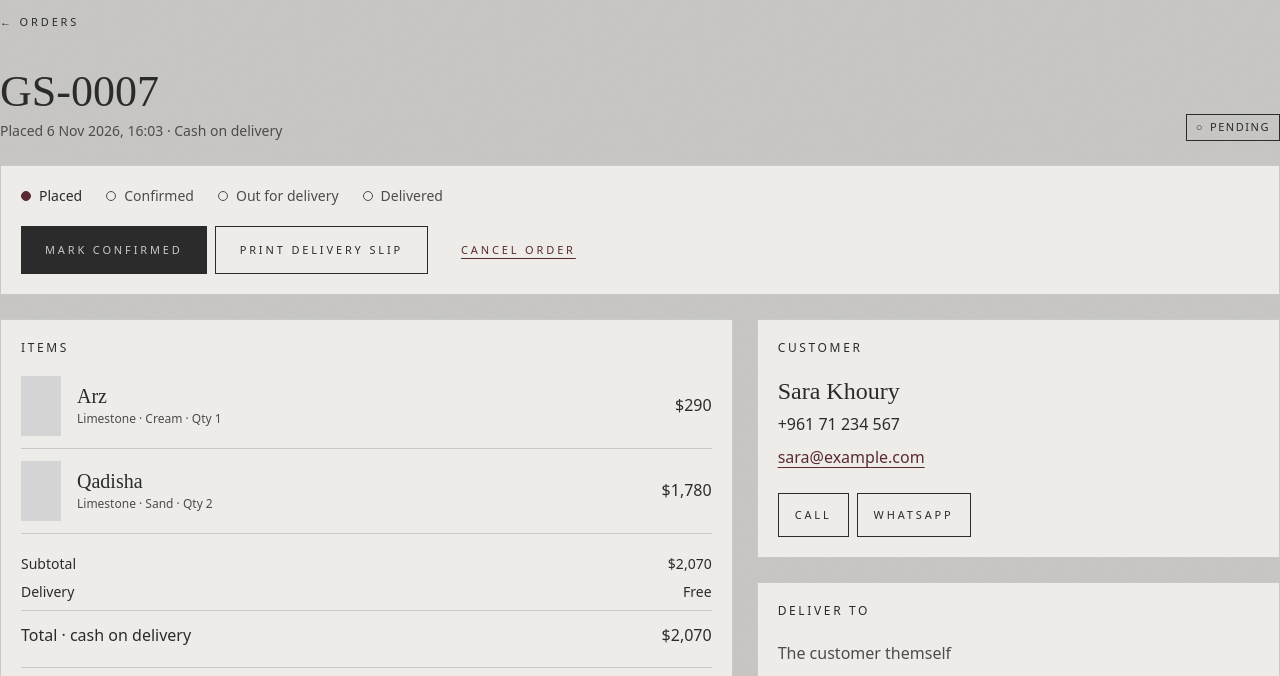
Test: one order in the studio › asks on the page before a step forward, naming who gets the email, and takes the order back
Step 1. Click the button "Mark confirmed" → (114, 250), box [21, 226, 207, 274]
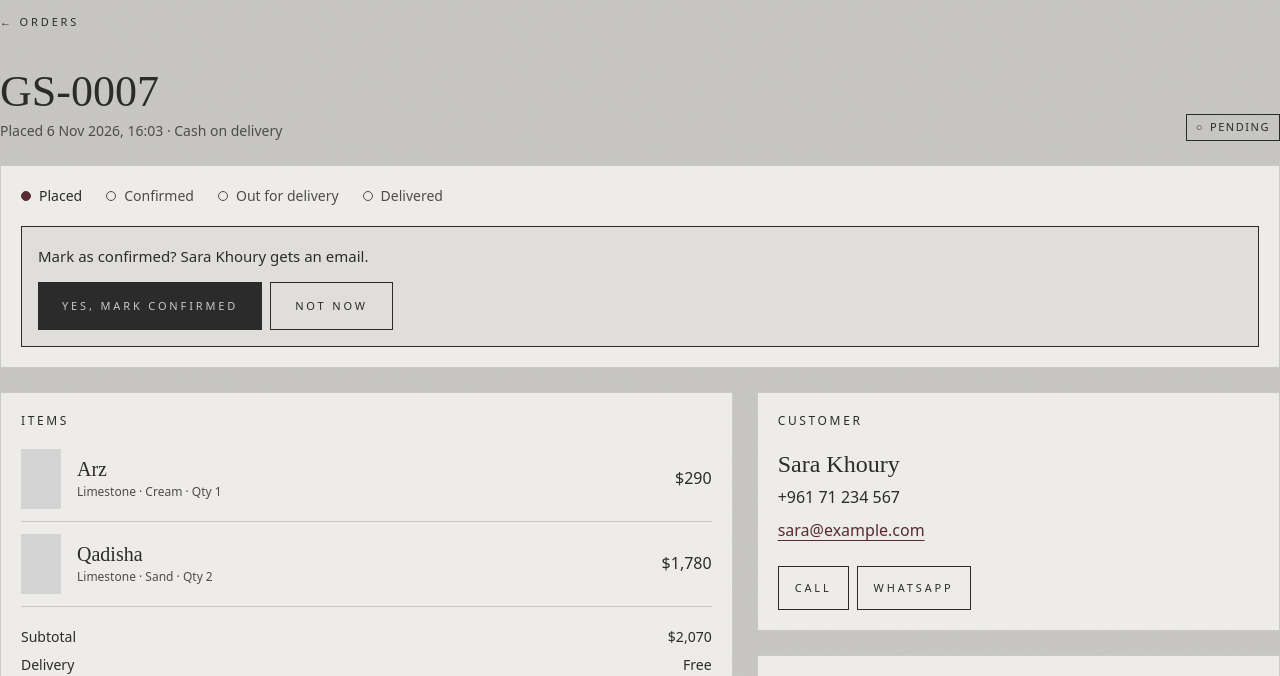
Expected: the text "Mark as confirmed? Sara Khoury gets an email." is shown, [38, 246, 368, 266]
Step 2. Click the button "Not now" → (331, 306), box [270, 282, 393, 330]
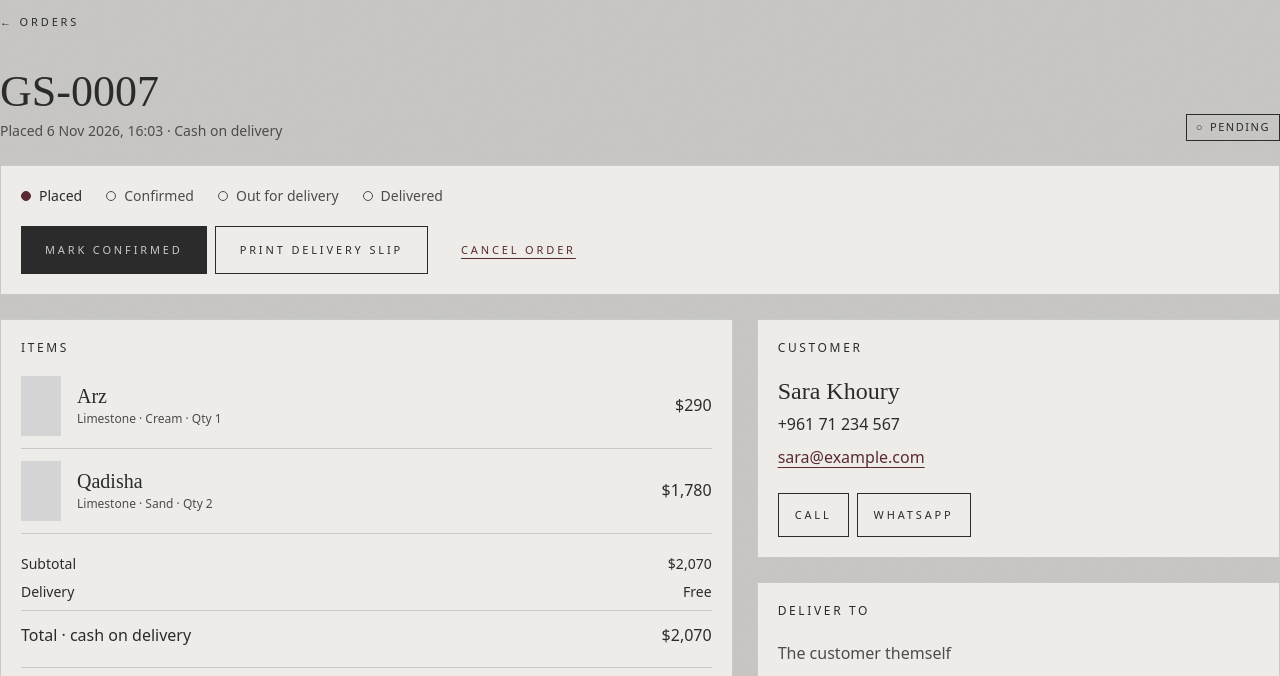
Expected: the text "Mark as confirmed? Sara Khoury gets an email." is gone
Step 3. Click the button "Mark confirmed" → (114, 250), box [21, 226, 207, 274]
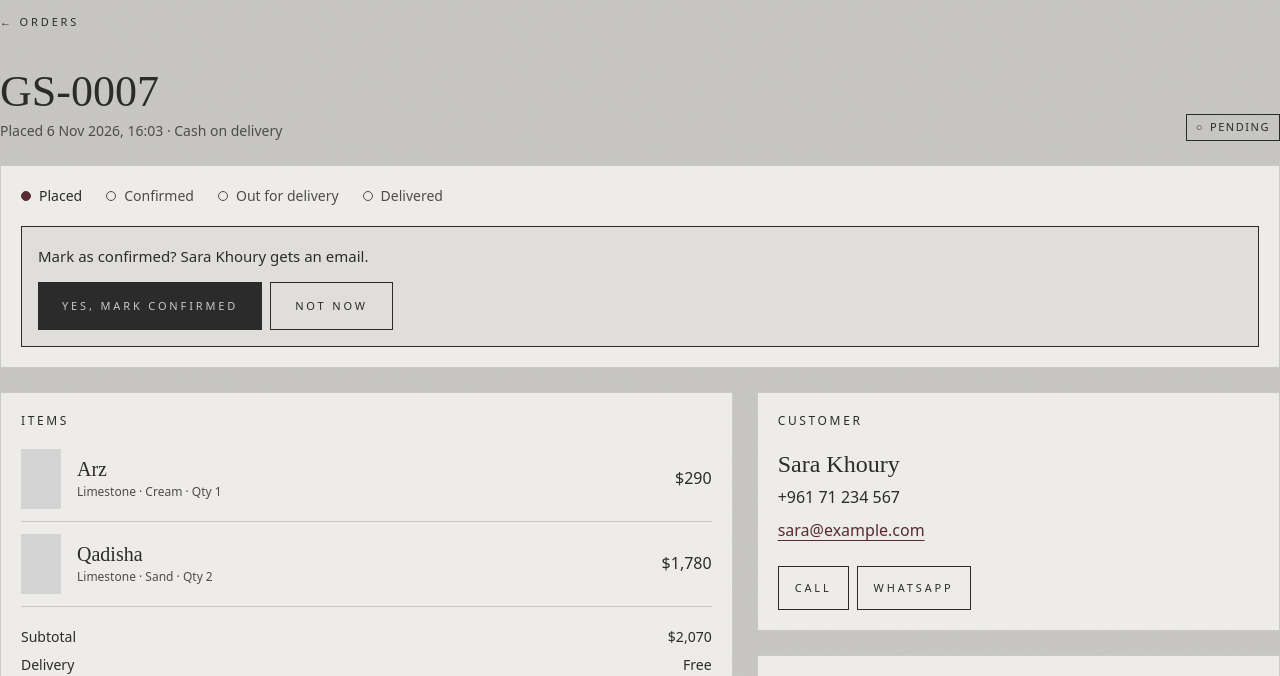
Step 4. Click the button "Yes, mark confirmed" → (150, 306), box [38, 282, 262, 330]
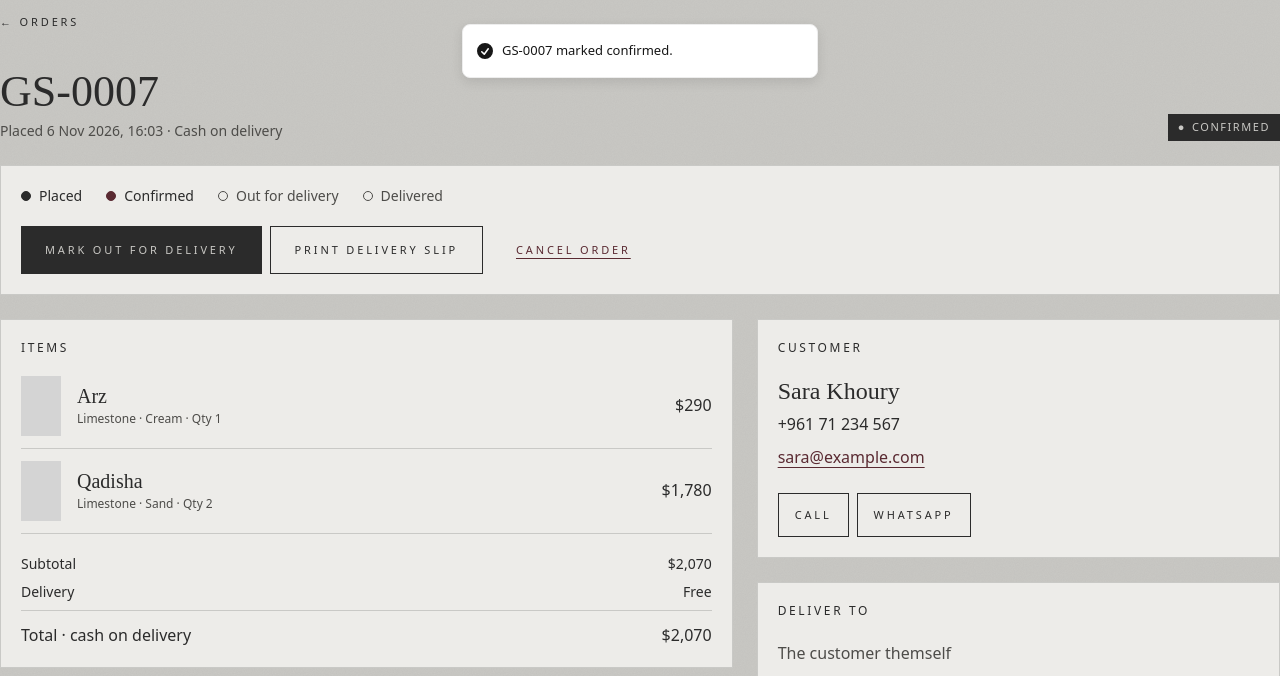
Expected: the button "Mark out for delivery" is shown, [21, 226, 262, 274]
Expected: the text "Confirmed" is shown, [1192, 119, 1270, 136]
Expected: the text "GS-0007 marked confirmed." is shown, [502, 41, 673, 60]
